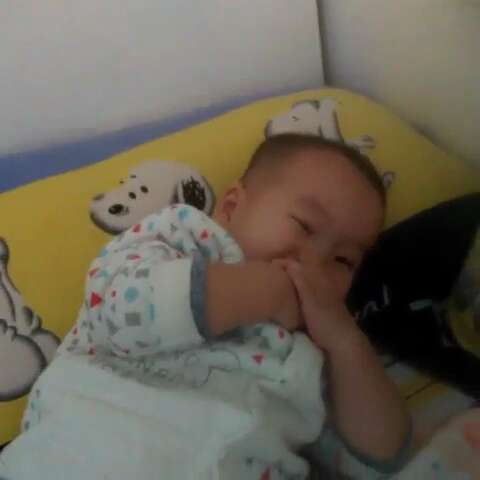face_mask: (236, 165, 372, 327)
